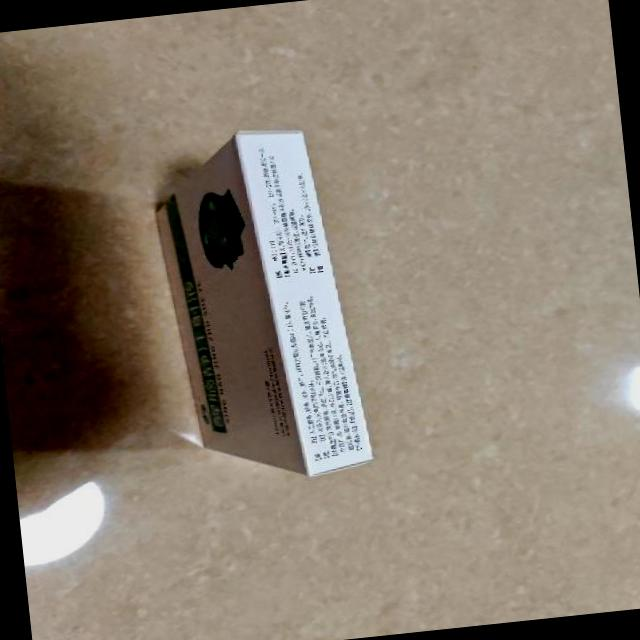box: (148, 117, 376, 491)
